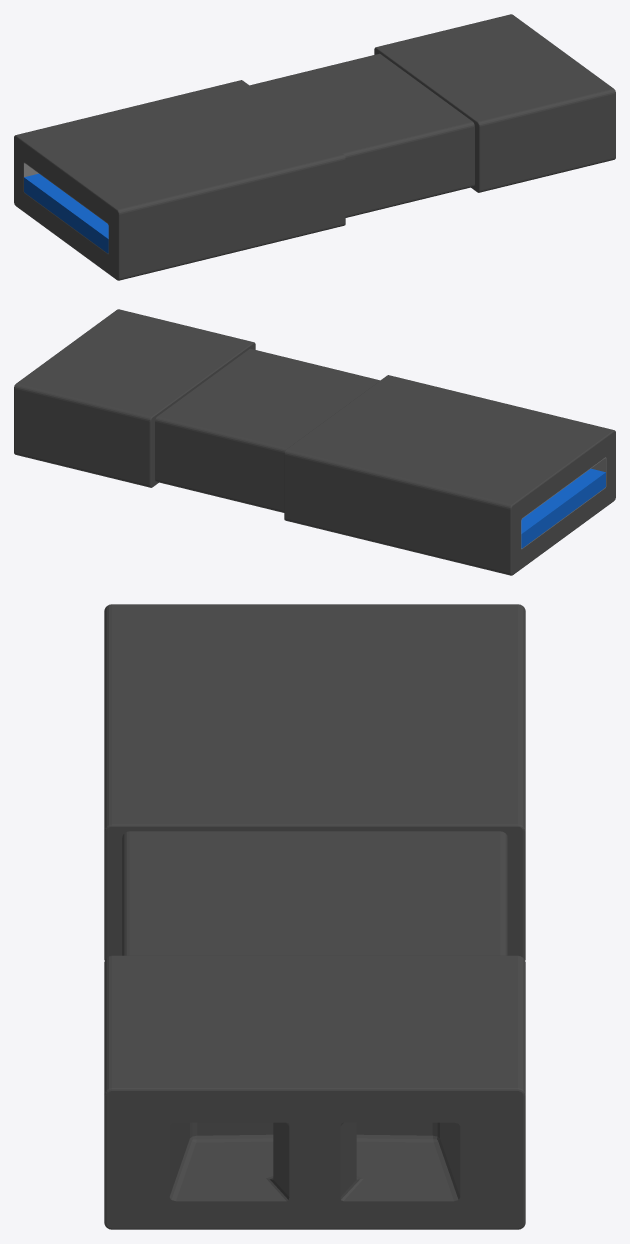
Rendered from Flash.glb.
3 renders of one model, top to bottom at view 1: azimuth 30°, elevation 25°; view 2: azimuth 150°, elevation 25°; view 3: azimuth 270°, elevation 25°, orthographic. The views are drawn at different scales.
Parts seen in each view (by area): view 1: Flash; view 2: Flash; view 3: Flash.
Boxes of the visible parts, x1=… form: Flash: x1=14, y1=14, x2=615, y2=280; Flash: x1=14, y1=309, x2=615, y2=575; Flash: x1=104, y1=604, x2=525, y2=1229.
Bounding box in the file's own units: 2.63 × 0.3581 × 0.9657.
